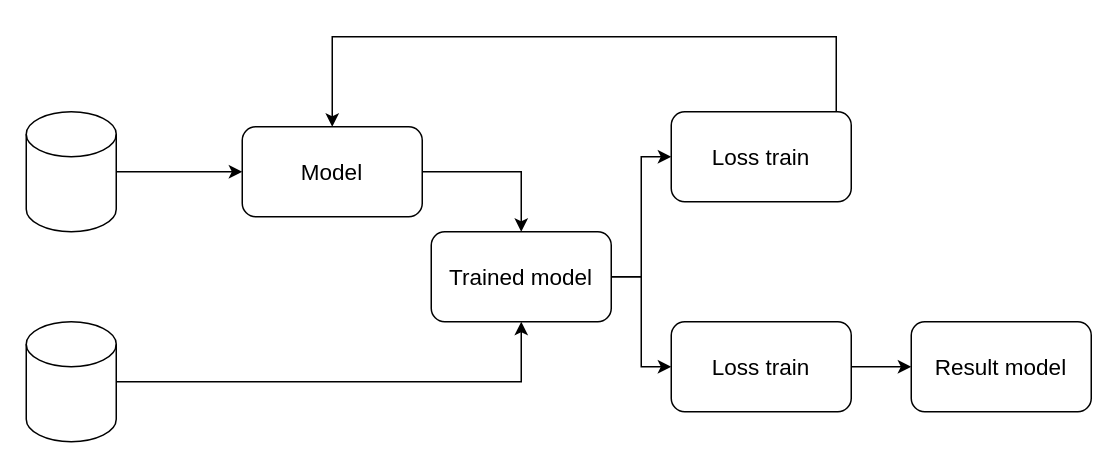
Image size: 1118x468. Some labels were removed from this diagram. Each missing label, with the centre of its shape:
"Training Set" belongs at point (70, 171).
"Validation Set" belongs at point (70, 381).
